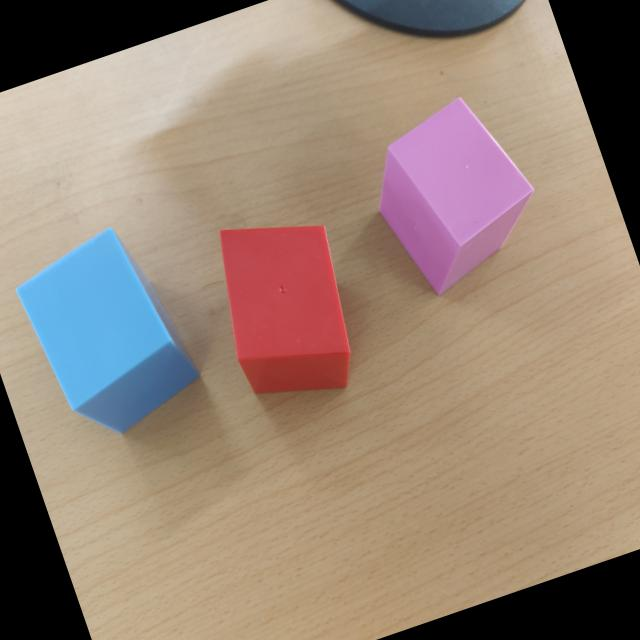blue: (15, 227, 200, 436)
pink: (378, 98, 535, 296)
red: (220, 225, 351, 396)
